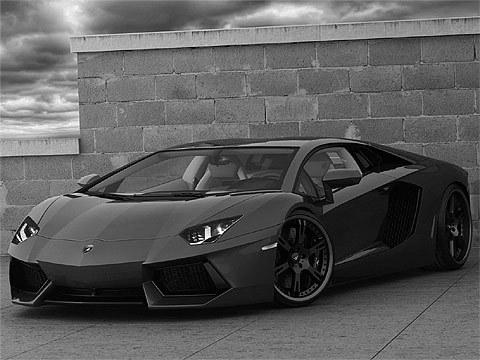car: (6, 135, 472, 316)
